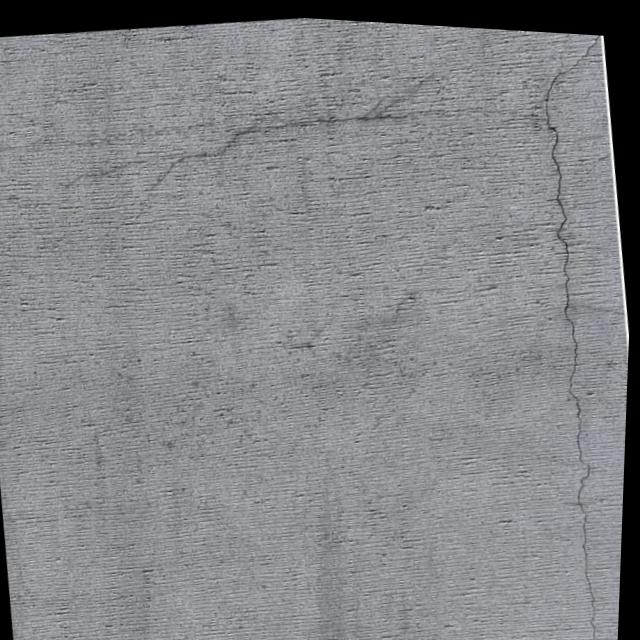Crack: (520, 27, 616, 633)
